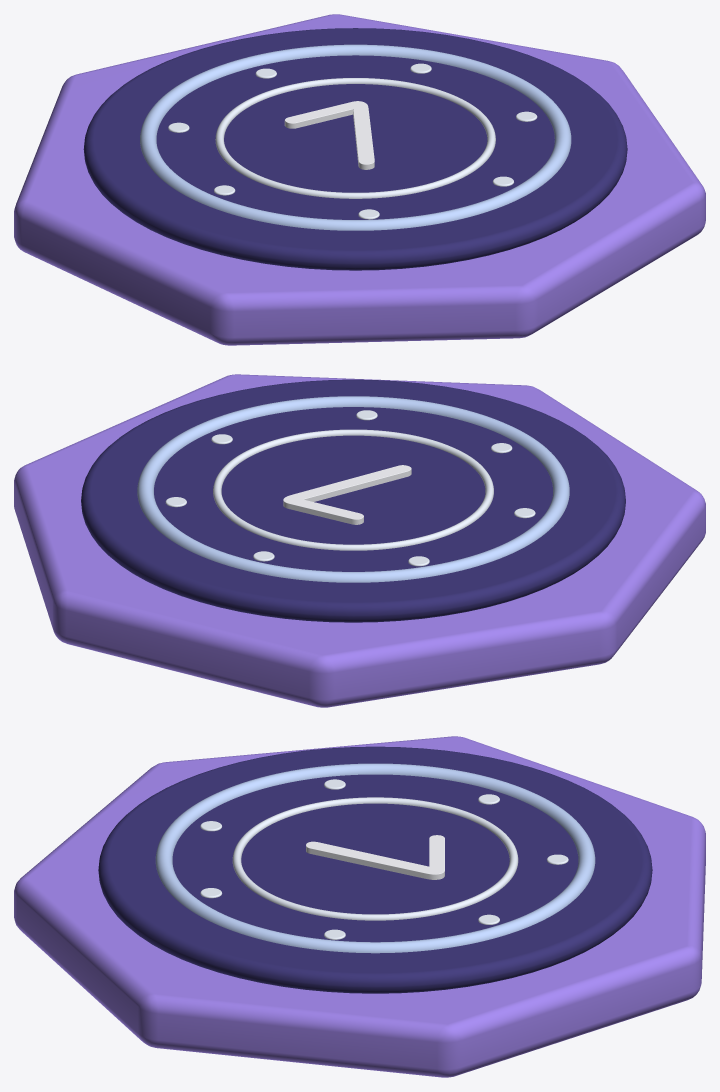
Rendered from achievement_streak_7.glb.
3 renders of one model, top to bottom at view 1: azimuth 30°, elevation 25°; view 2: azimuth 150°, elevation 25°; view 3: azimuth 270°, elevation 25°, orthographic.
Visible parts, largest first — view 1: streak rounded inner face, streak wave frame, streak orbit ring, streak inner ring, imprinted 7 workout count; view 2: streak rounded inner face, streak wave frame, streak orbit ring, streak inner ring, imprinted 7 workout count; view 3: streak rounded inner face, streak wave frame, streak orbit ring, streak inner ring, imprinted 7 workout count.
Boxes of the visible parts, x1=… form: streak rounded inner face: x1=83, y1=28, x2=627, y2=270; streak wave frame: x1=14, y1=14, x2=705, y2=345; streak orbit ring: x1=140, y1=44, x2=571, y2=230; streak inner ring: x1=215, y1=78, x2=495, y2=198; imprinted 7 workout count: x1=284, y1=101, x2=374, y2=169; streak rounded inner face: x1=81, y1=379, x2=625, y2=622; streak wave frame: x1=14, y1=374, x2=705, y2=707; streak orbit ring: x1=137, y1=396, x2=569, y2=582; streak inner ring: x1=213, y1=429, x2=493, y2=550; imprinted 7 workout count: x1=283, y1=465, x2=411, y2=524; streak rounded inner face: x1=98, y1=746, x2=652, y2=993; streak wave frame: x1=14, y1=736, x2=705, y2=1077; streak orbit ring: x1=155, y1=763, x2=595, y2=953; streak inner ring: x1=232, y1=797, x2=518, y2=920; imprinted 7 workout count: x1=306, y1=835, x2=444, y2=879.
Size of the model in its own units: 1.94 by 0.24 by 1.9.
